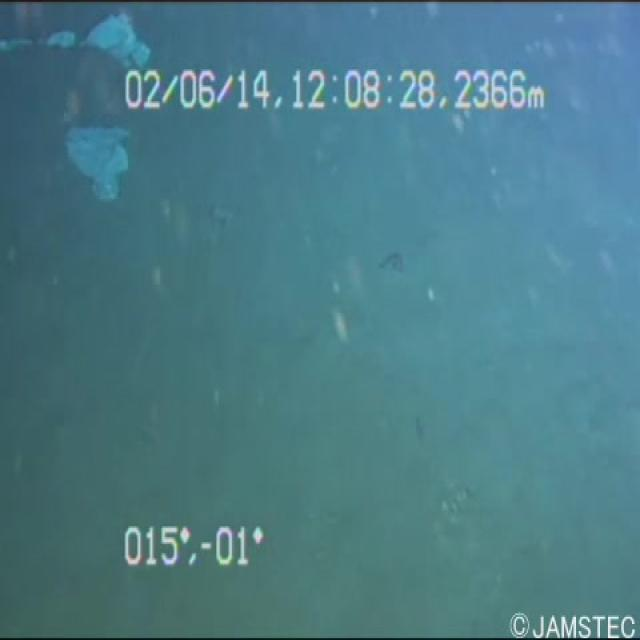plastic: (12, 9, 164, 83), (49, 107, 158, 208)
